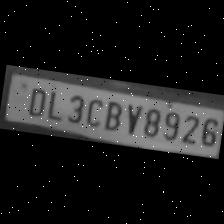2: (177, 110, 200, 146)
3: (62, 91, 84, 124)
6: (196, 113, 220, 148)
8: (138, 104, 162, 139)
9: (158, 106, 182, 142)
B: (98, 96, 123, 132)
C: (81, 94, 103, 128)
D: (21, 84, 47, 118)
L: (43, 87, 64, 121)
V: (119, 100, 144, 136)
